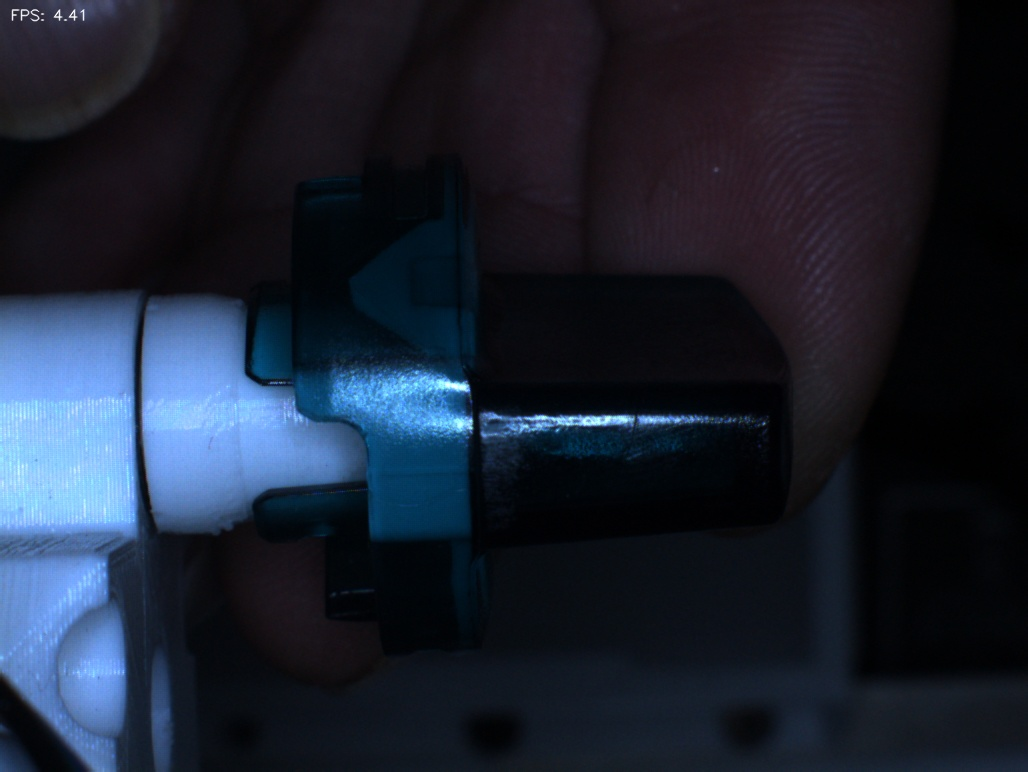DentOk: (324, 250, 395, 330)
